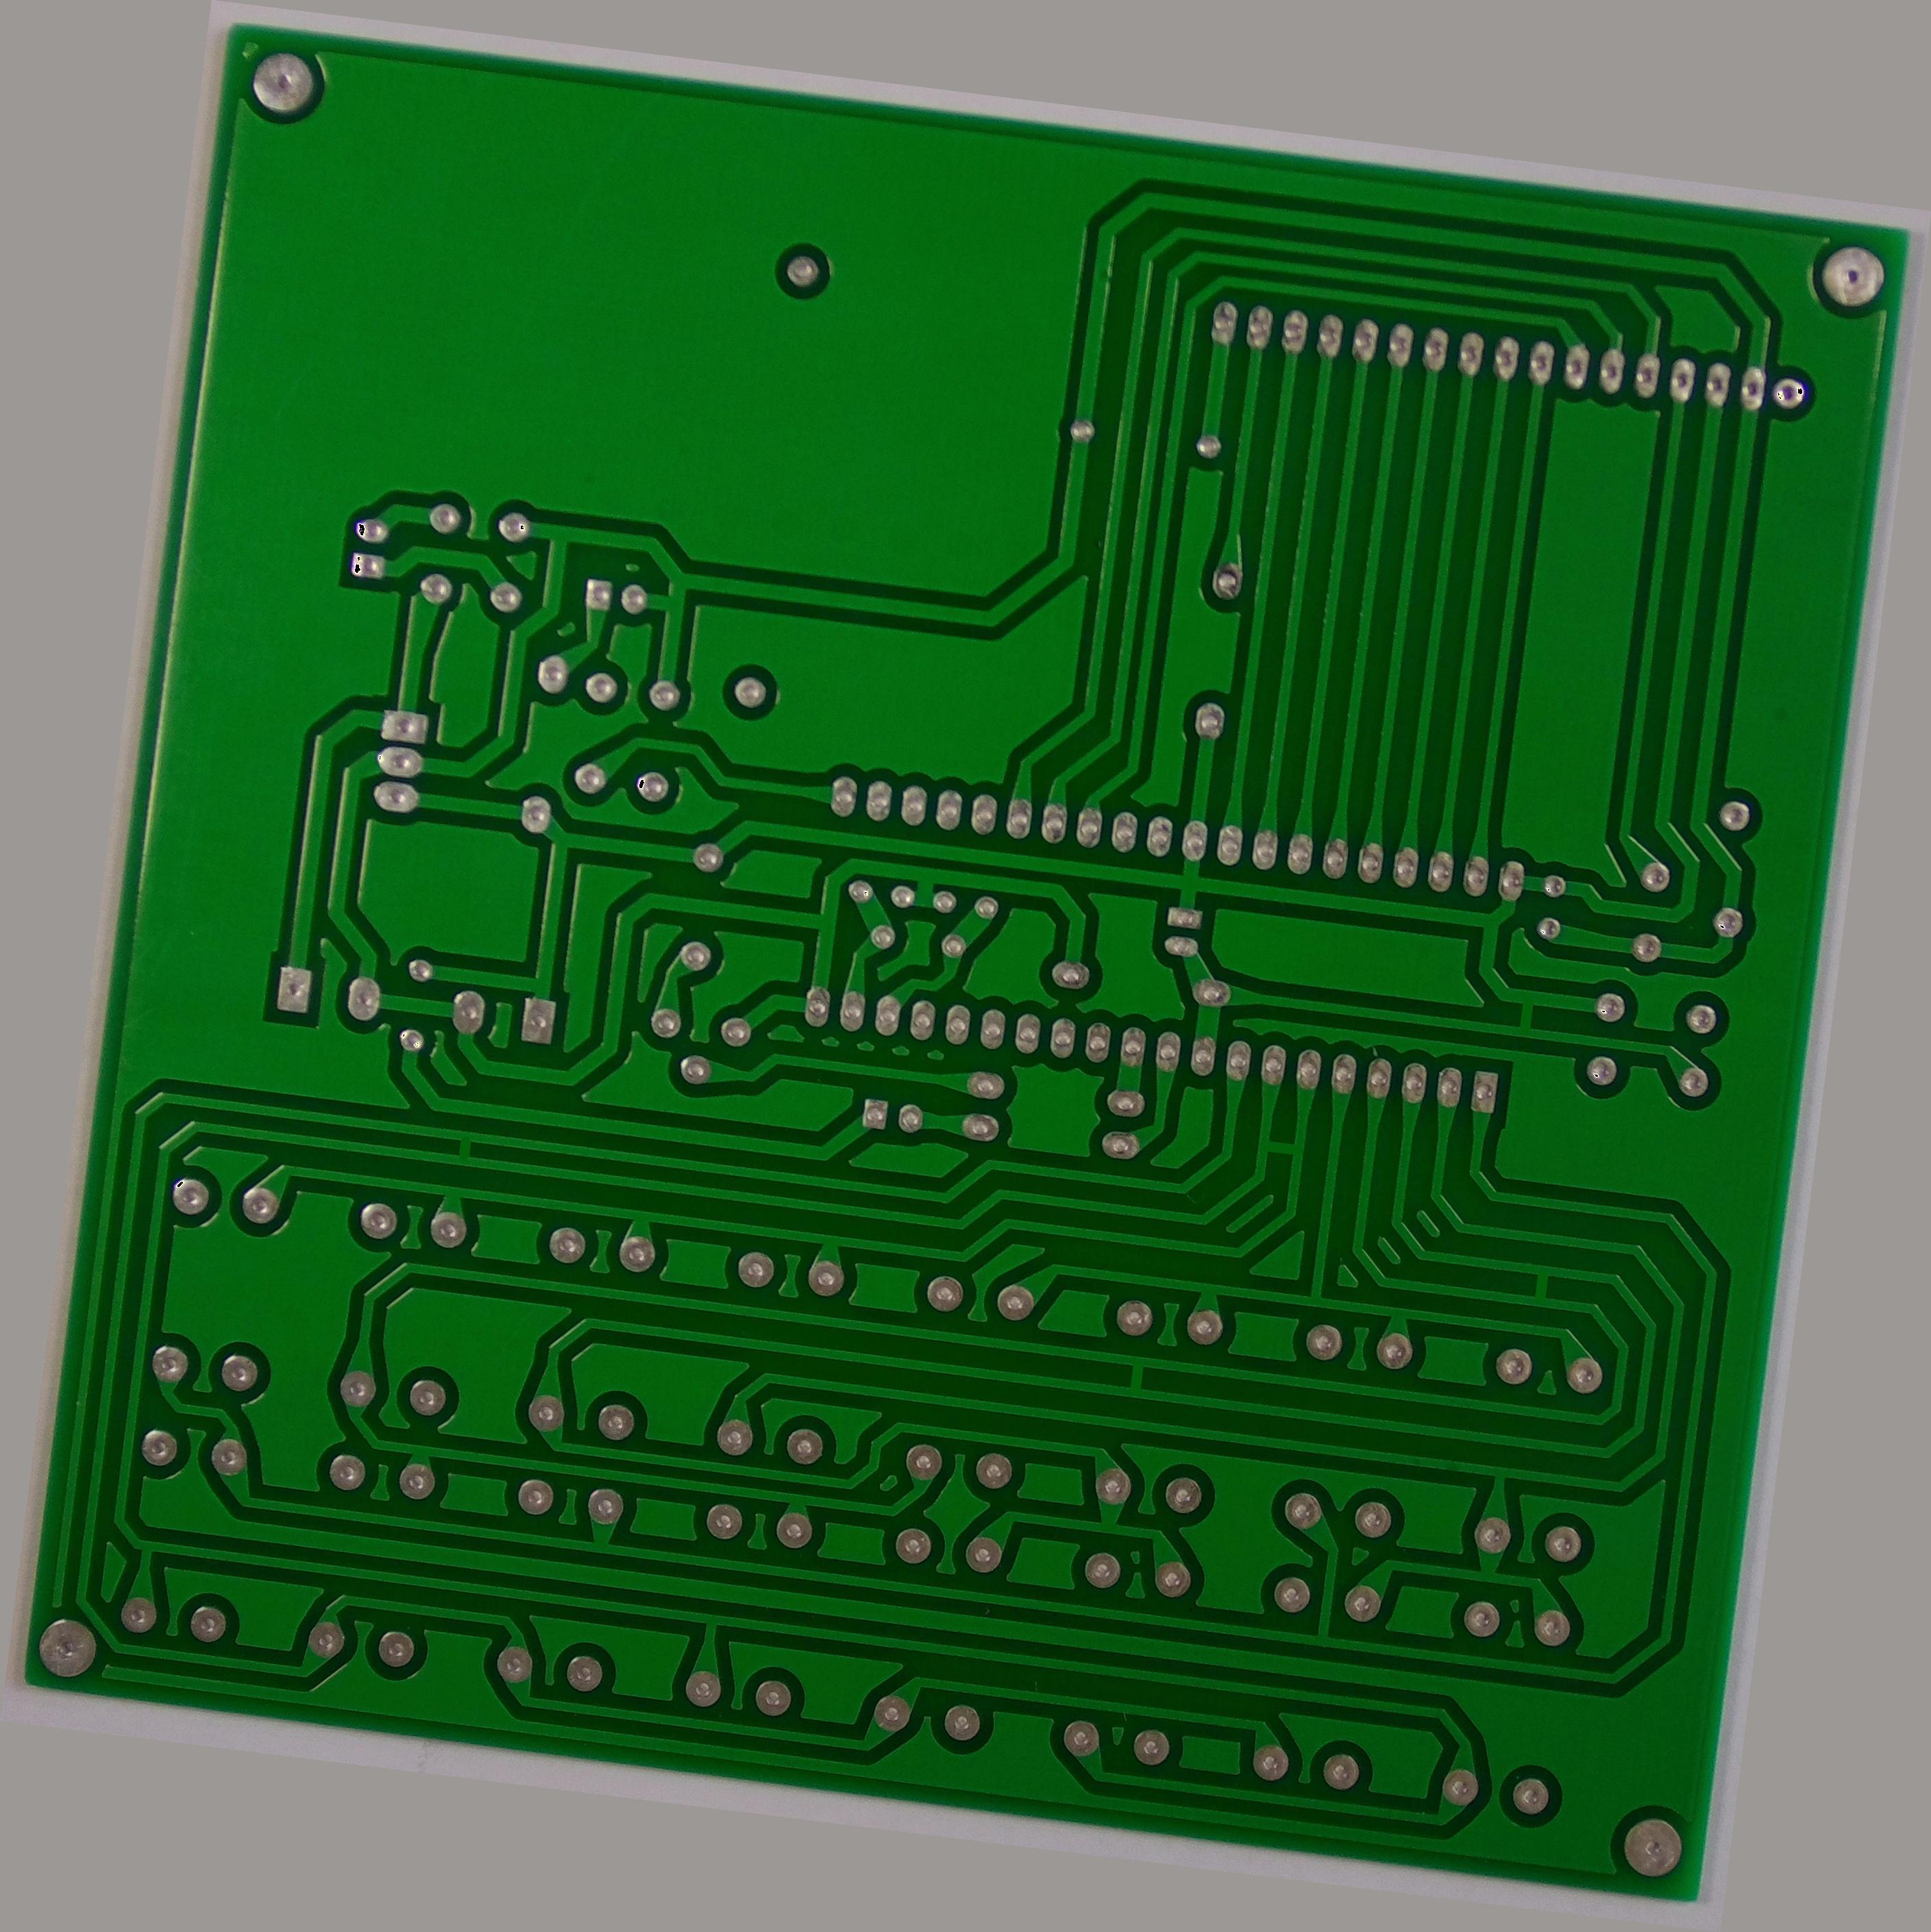short: (1496, 977, 1553, 1046), (1517, 1253, 1561, 1318), (1245, 1129, 1312, 1171), (1116, 1348, 1162, 1408), (444, 1125, 485, 1177)
